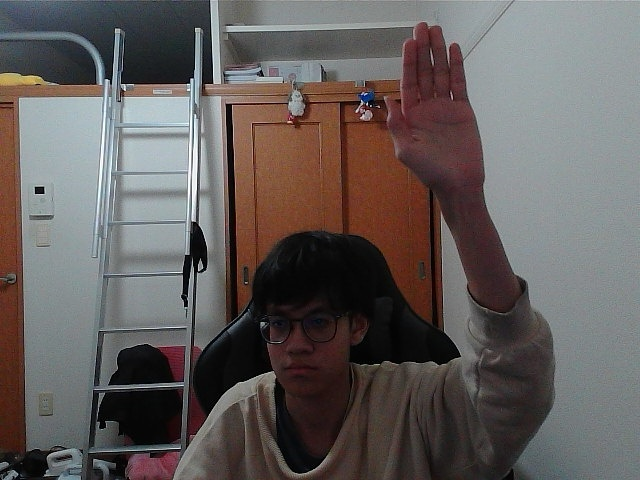open_palm: (393, 29, 462, 176)
